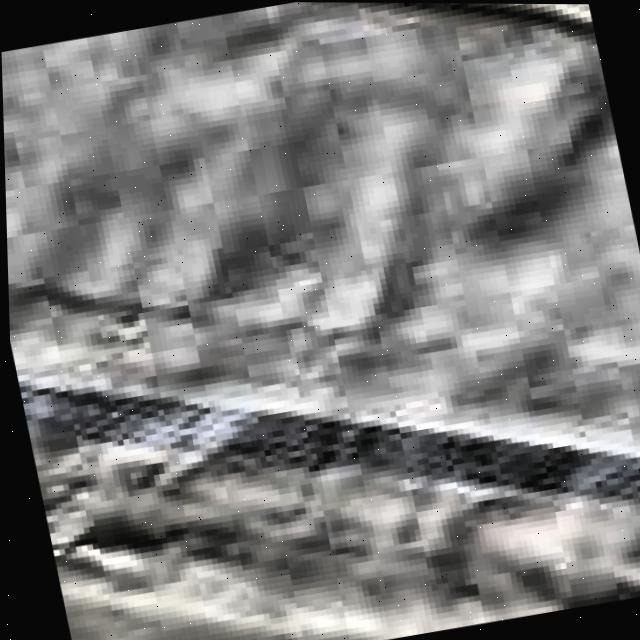paper: (1, 2, 640, 634)
